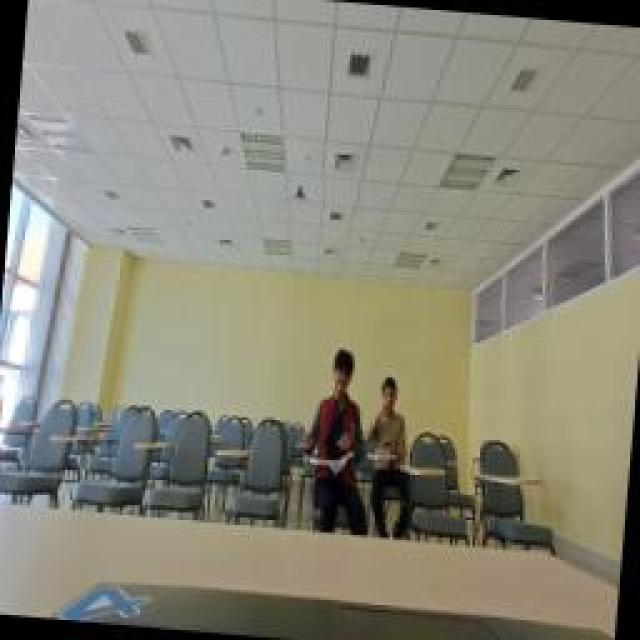study: (300, 345, 370, 460), (365, 372, 413, 458)
